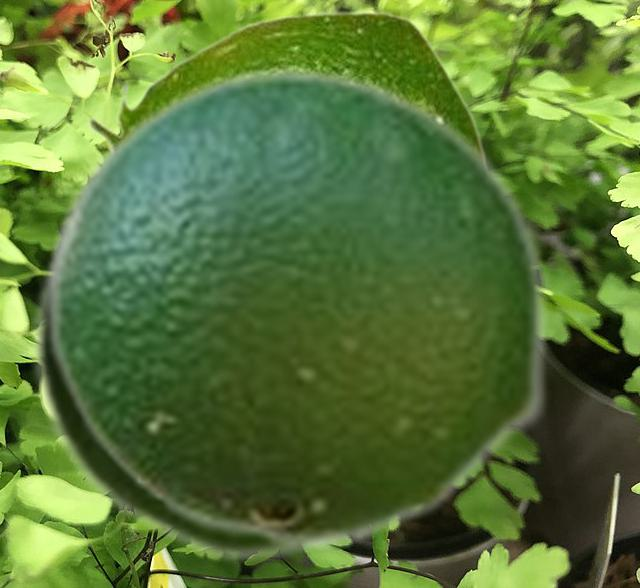dalandan: (43, 65, 550, 551), (29, 251, 341, 566), (86, 10, 487, 150)
